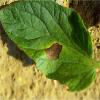Tomato Early blight leaf: (1, 2, 97, 94)
